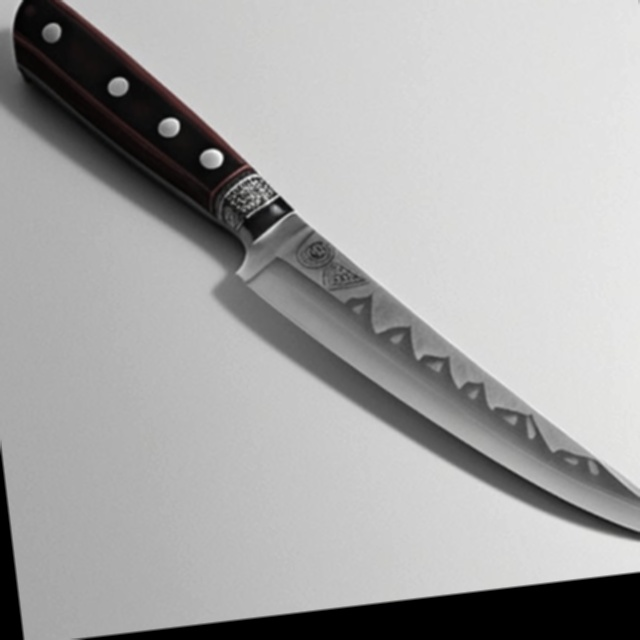Sharp-Object: (3, 0, 640, 624)
